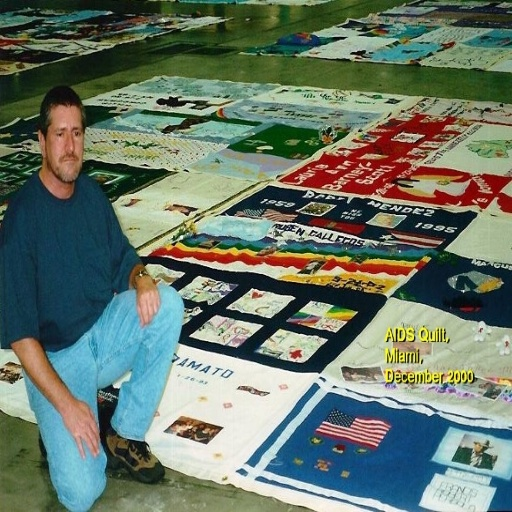hand: (44, 384, 91, 472), (134, 274, 161, 326)
